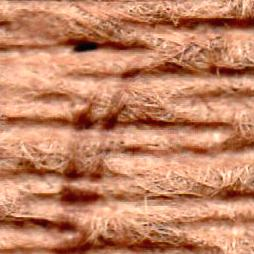egg: (74, 41, 97, 51)
